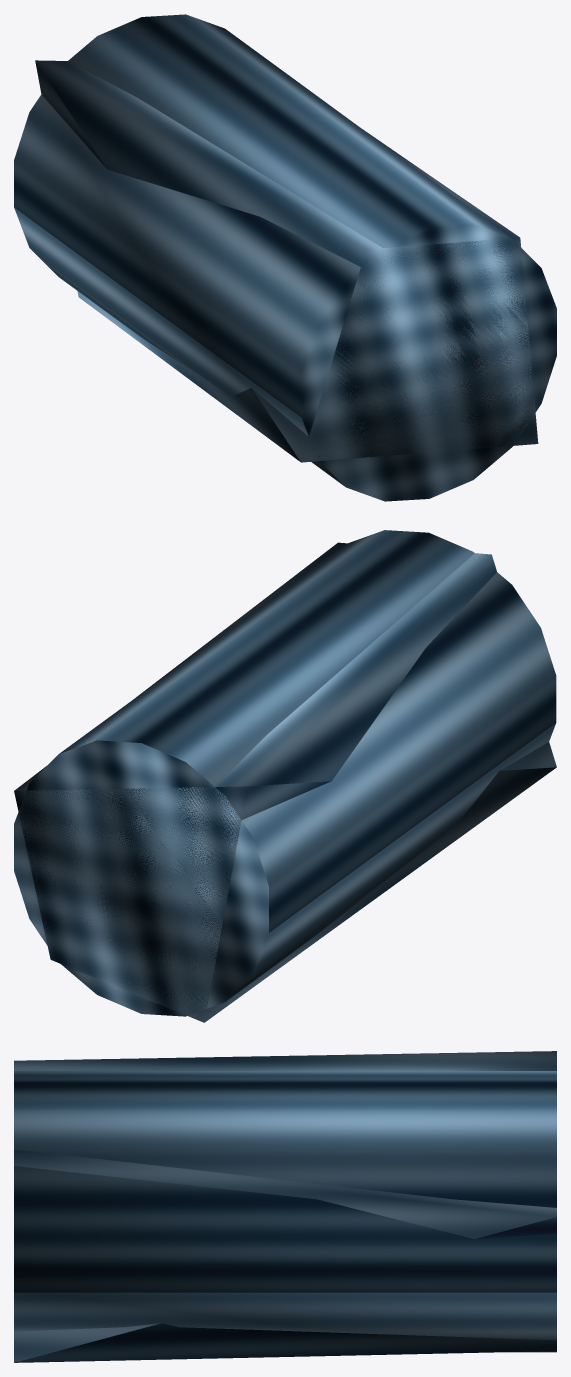
Rendered from cell_jet.fbx.
3 renders of one model, top to bottom at view 1: azimuth 30°, elevation 25°; view 2: azimuth 150°, elevation 25°; view 3: azimuth 270°, elevation 25°, orthographic. The views are drawn at different scales.
Parts seen in each view (by area): view 1: cell_jet_VIS, cell_jet_COL; view 2: cell_jet_VIS, cell_jet_COL; view 3: cell_jet_VIS, cell_jet_COL.
Part boxes in pixels (<box>): cell_jet_VIS: <box>14,14,556,501</box>; cell_jet_COL: <box>35,60,538,462</box>; cell_jet_VIS: <box>14,530,556,1016</box>; cell_jet_COL: <box>14,542,556,1022</box>; cell_jet_VIS: <box>14,1071,556,1352</box>; cell_jet_COL: <box>14,1051,556,1362</box>.
Size of the model in its own units: 25.67 by 26 by 50.
